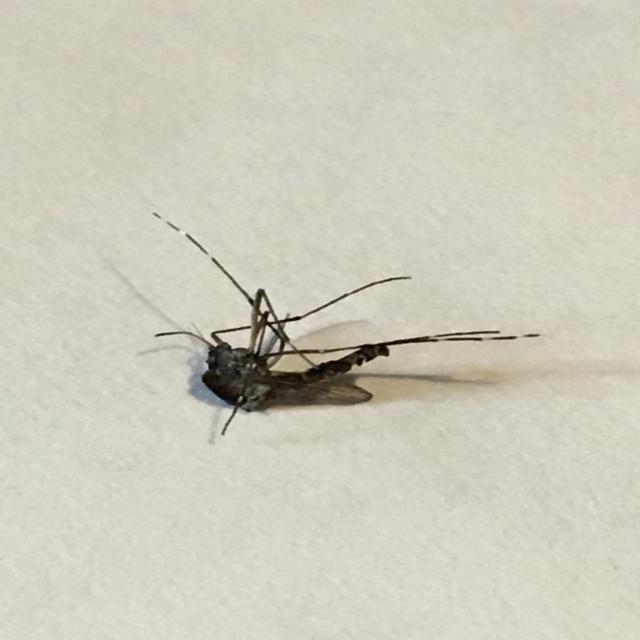albopictus: (122, 198, 528, 444)
